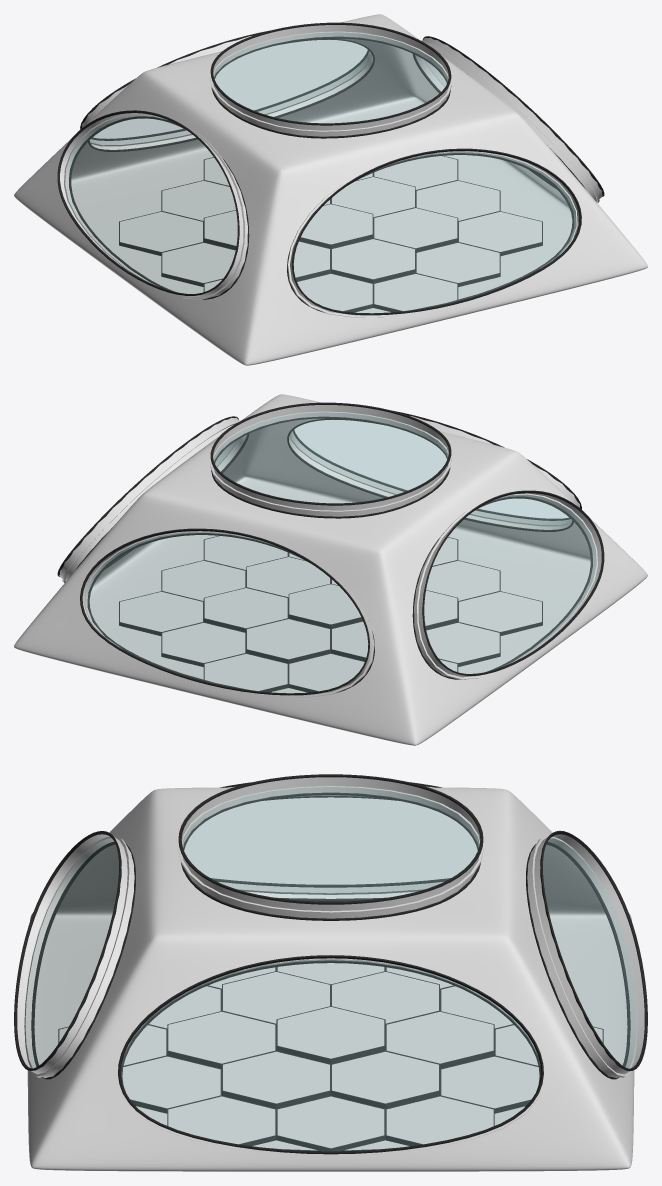
The model's file is GARA2.fbx.
The picture shows the model from 3 angles, top to bottom: view 1: azimuth 30°, elevation 25°; view 2: azimuth 150°, elevation 25°; view 3: azimuth 270°, elevation 25°; orthographic projection. The views are drawn at different scales.
Parts seen in each view (by area): view 1: Garage_F_Structure, Garage_F_Glass, Garage_F_Stage, Garage_F_Borders; view 2: Garage_F_Structure, Garage_F_Glass, Garage_F_Stage, Garage_F_Borders; view 3: Garage_F_Structure, Garage_F_Glass, Garage_F_Stage, Garage_F_Borders.
Boxes of the visible parts, x1=… form: Garage_F_Structure: x1=14, y1=14, x2=647, y2=365; Garage_F_Glass: x1=64, y1=31, x2=576, y2=312; Garage_F_Stage: x1=119, y1=155, x2=542, y2=312; Garage_F_Borders: x1=57, y1=22, x2=604, y2=315; Garage_F_Structure: x1=14, y1=394, x2=647, y2=745; Garage_F_Glass: x1=85, y1=411, x2=597, y2=692; Garage_F_Stage: x1=119, y1=535, x2=542, y2=692; Garage_F_Borders: x1=57, y1=402, x2=604, y2=695; Garage_F_Structure: x1=17, y1=777, x2=644, y2=1171; Garage_F_Glass: x1=24, y1=786, x2=637, y2=1150; Garage_F_Stage: x1=58, y1=963, x2=603, y2=1150; Garage_F_Borders: x1=14, y1=774, x2=647, y2=1154.
Bounding box in the file's own units: 3072 × 1119 × 3072.
